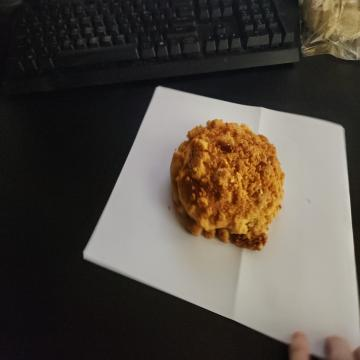soboru_bread: (170, 122, 281, 255)
